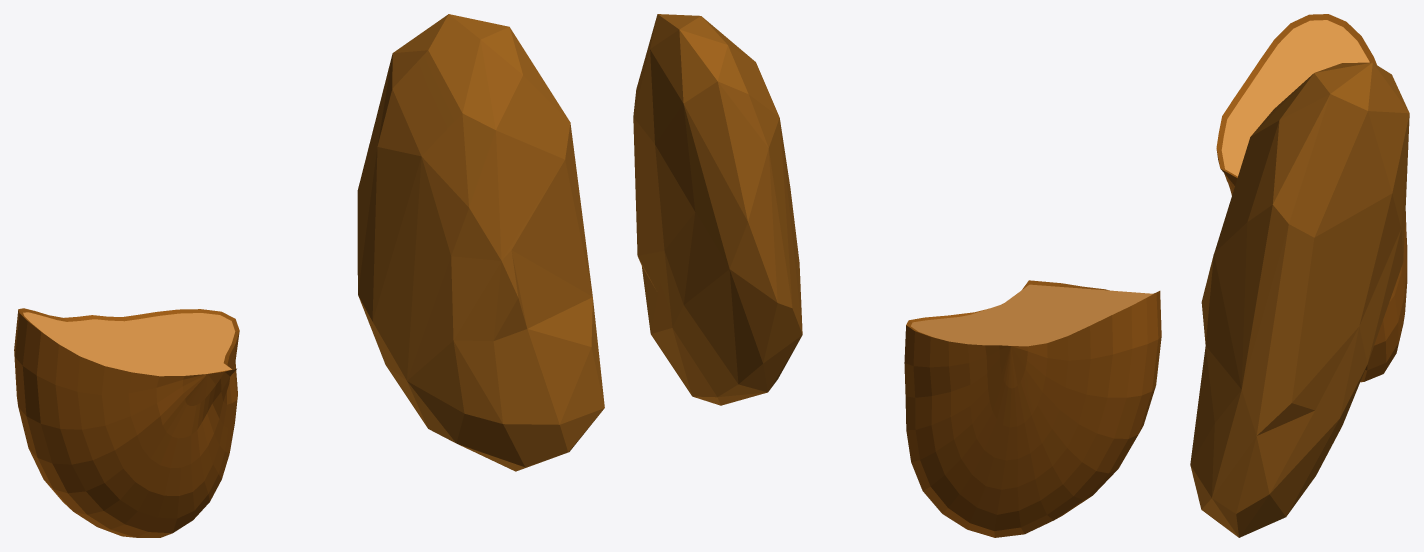
The model's file is Bread 1.fbx.
3 renders of one model, left to right at view 1: azimuth 30°, elevation 25°; view 2: azimuth 150°, elevation 25°; view 3: azimuth 270°, elevation 25°, orthographic. The views are drawn at different scales.
Parts seen in each view (by area): view 1: Bread.001, Bread.002; view 2: Bread.001, Bread.002; view 3: Bread.001, Bread.002.
Part boxes in pixels (x1,y1,x2,y2): Bread.001: (357,14,604,471); Bread.002: (14,308,239,537); Bread.001: (633,14,802,405); Bread.002: (904,280,1161,537); Bread.001: (1190,62,1409,537); Bread.002: (1216,14,1407,382).
Size of the model in its own units: 50.79 by 39.01 by 16.27.
